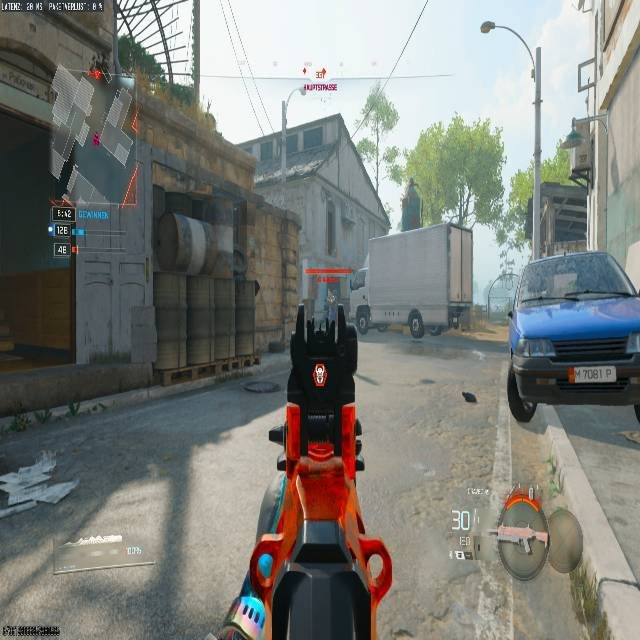player: (320, 285, 342, 328), (407, 306, 423, 335)
